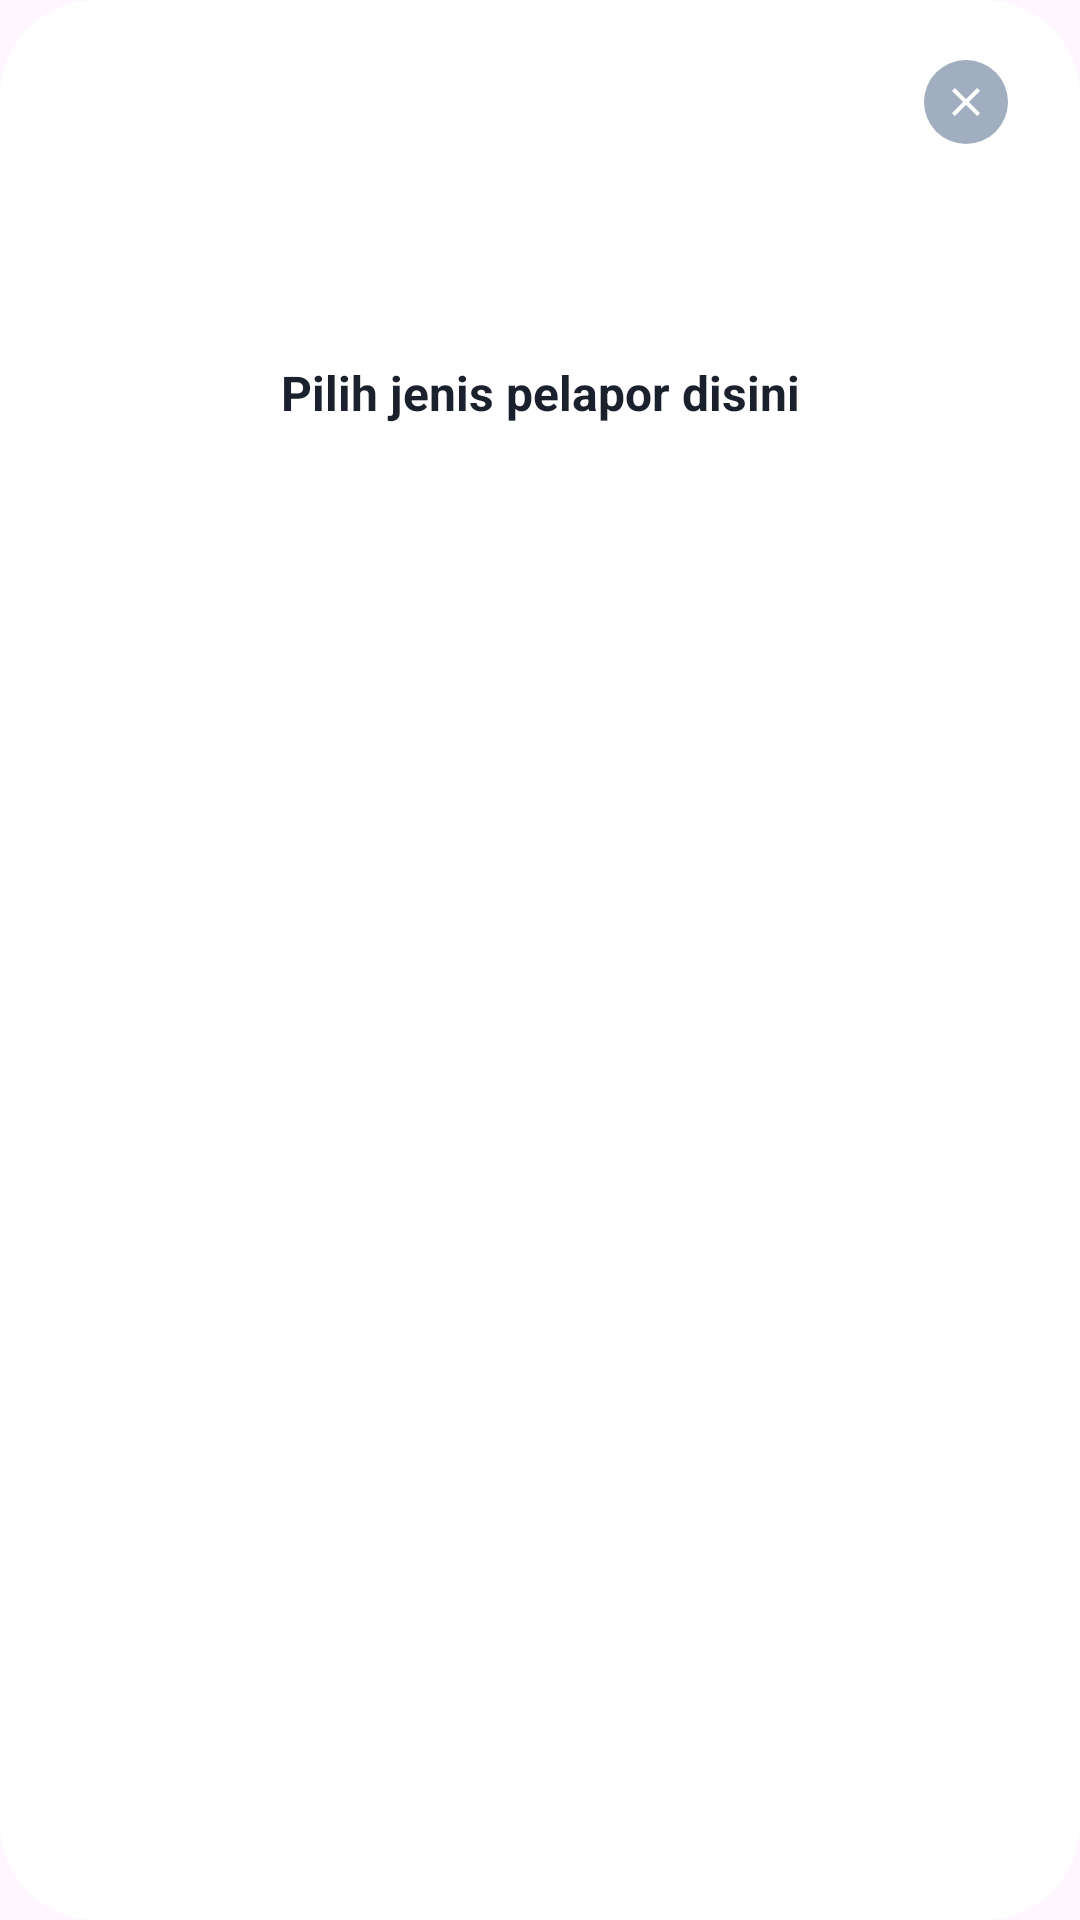

Icons on this 1080w x 1920h Android screen, each with its box as (x1, y1, x2, y2):
Close: (924, 60, 1008, 144)
